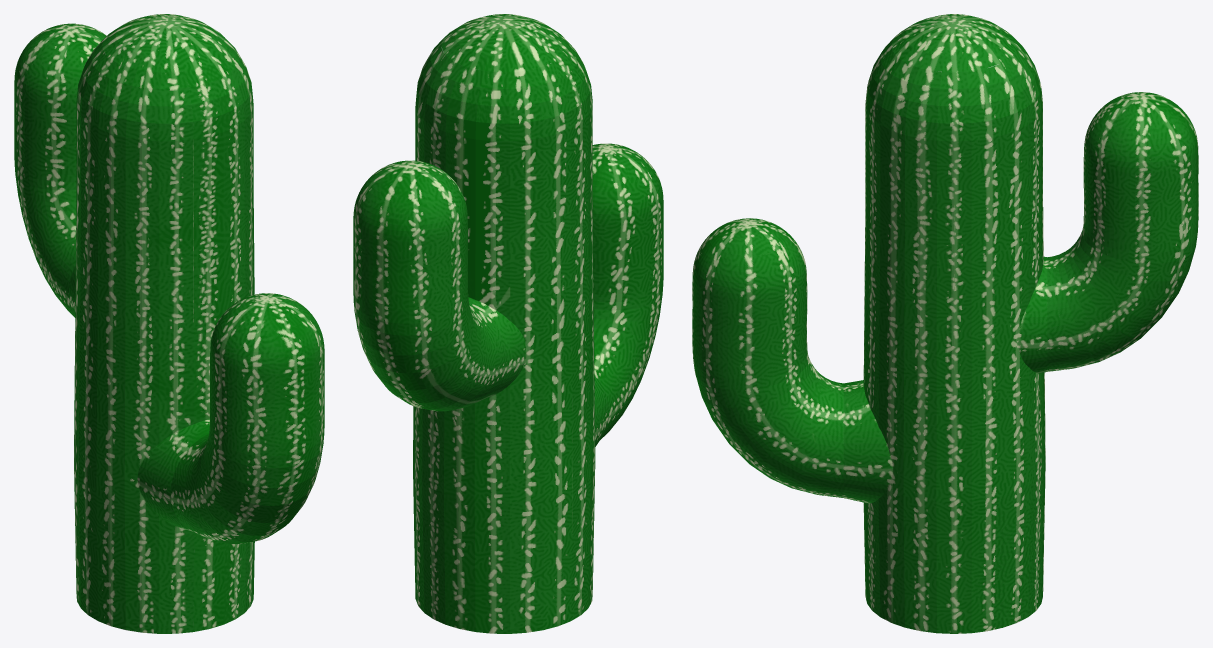
Rendered from cactus.obj.
3 renders of one model, left to right at view 1: azimuth 30°, elevation 25°; view 2: azimuth 150°, elevation 25°; view 3: azimuth 270°, elevation 25°, orthographic.
Visible parts, largest first — view 1: Cactus; view 2: Cactus; view 3: Cactus.
Part boxes in pixels (x1=…): Cactus: x1=14, y1=14, x2=324, y2=633; Cactus: x1=353, y1=14, x2=663, y2=633; Cactus: x1=692, y1=14, x2=1198, y2=633.
Bounding box in the file's own units: 2.06 × 7.13 × 5.7.
Materials: 1 (1 with a texture image).
